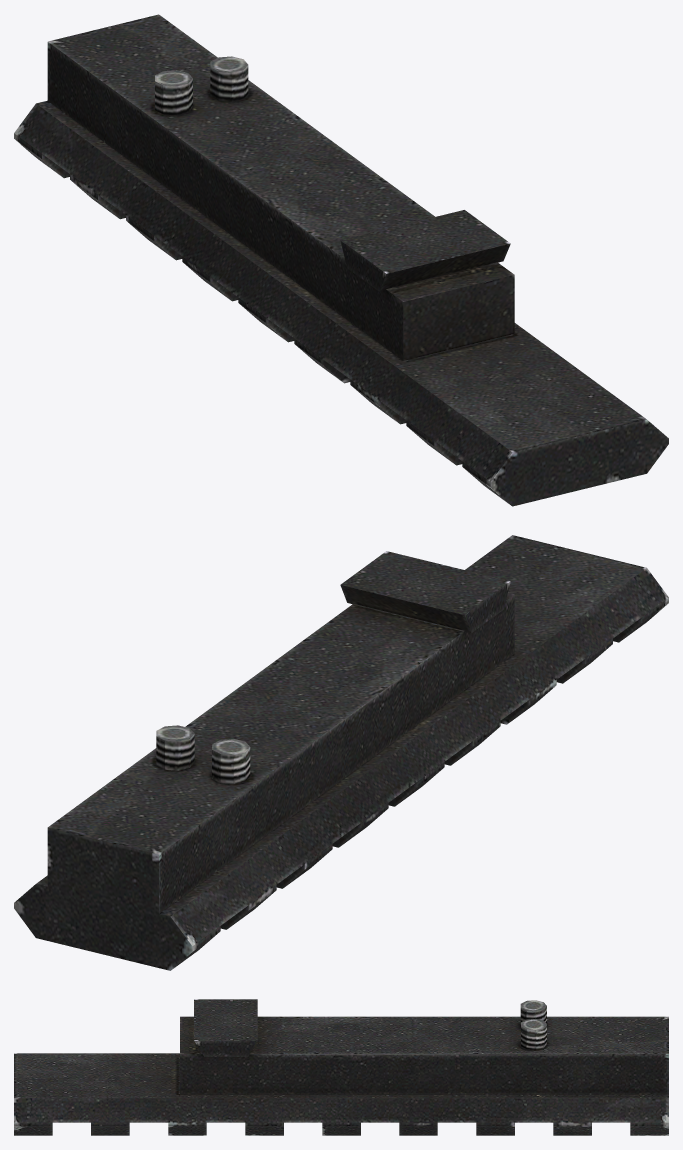
3 renders of one model, top to bottom at view 1: azimuth 30°, elevation 25°; view 2: azimuth 150°, elevation 25°; view 3: azimuth 270°, elevation 25°, orthographic. The views are drawn at different scales.
Visible parts, largest first — view 1: TW_58272b842459774abc128d50_PZ_Import; view 2: TW_58272b842459774abc128d50_PZ_Import; view 3: TW_58272b842459774abc128d50_PZ_Import.
Part boxes in pixels (left/top/right/bottom): TW_58272b842459774abc128d50_PZ_Import: left=14, top=14, right=668, bottom=506; TW_58272b842459774abc128d50_PZ_Import: left=14, top=535, right=668, bottom=970; TW_58272b842459774abc128d50_PZ_Import: left=14, top=999, right=668, bottom=1135.
Size of the model in its own units: 0.0123 by 0.0567 by 0.00933.
1 material, 1 textured.
